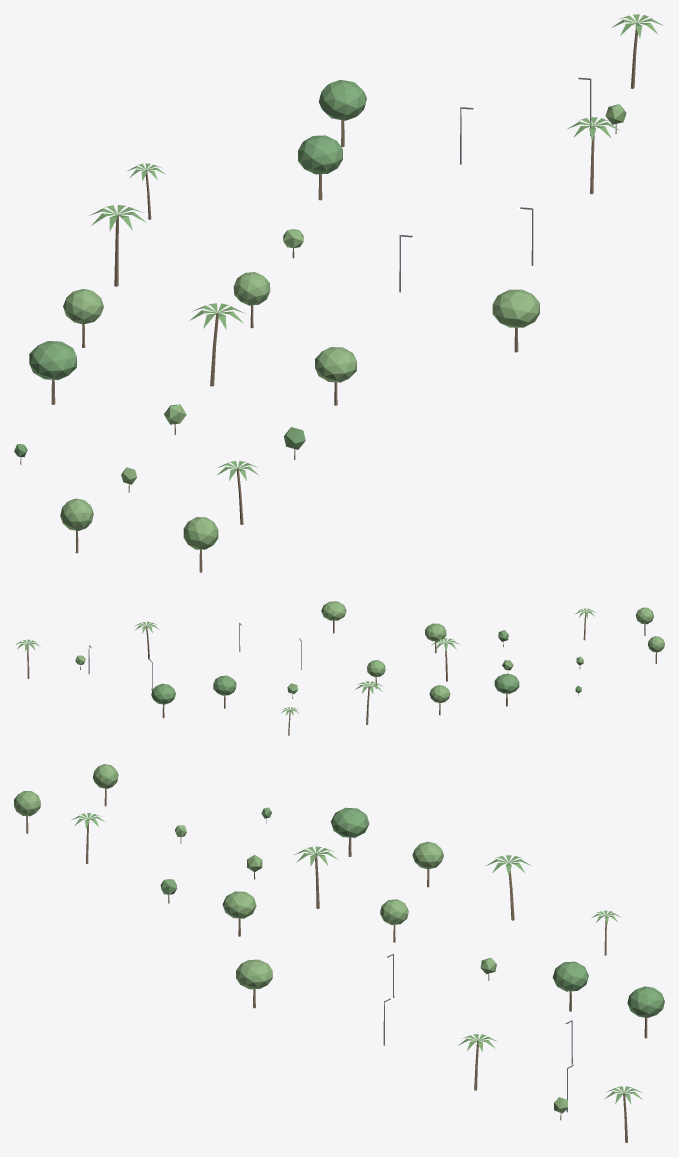
Rendered from nature_3_7.glb.
3 views of the same model, one above another, from view 1: azimuth 30°, elevation 25°; view 2: azimuth 150°, elevation 25°; view 3: azimuth 270°, elevation 25° (orthographic). The views are drawn at different scales.
Visible parts, largest first — view 1: foliage_b, foliage_a, palm_leaf, trunk; view 2: foliage_b, foliage_a, palm_leaf, trunk; view 3: foliage_b, foliage_a, palm_leaf, trunk.
Boxes of the visible parts, x1,y1,x2,y2 form: foliage_b: [60, 104, 626, 549]; foliage_a: [14, 79, 366, 457]; palm_leaf: [89, 14, 663, 480]; trunk: [20, 23, 637, 572]; foliage_b: [75, 601, 664, 703]; foliage_a: [151, 630, 581, 704]; palm_leaf: [15, 608, 596, 715]; trunk: [27, 612, 656, 735]; foliage_b: [14, 764, 567, 1113]; foliage_a: [160, 807, 664, 1017]; palm_leaf: [71, 813, 642, 1104]; trunk: [26, 788, 647, 1142].
Bounding box in the file's own units: 111 × 8.72 × 86.88.
